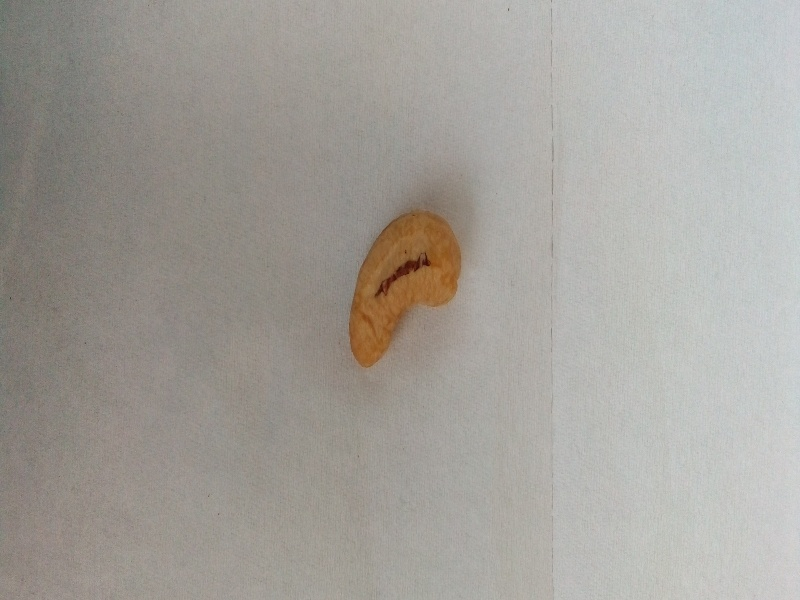cashew: (325, 193, 496, 397)
